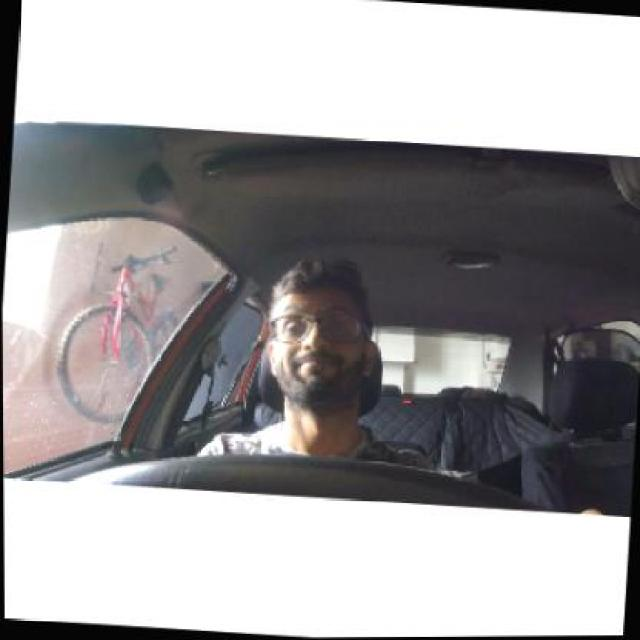person: (260, 240, 385, 423)
